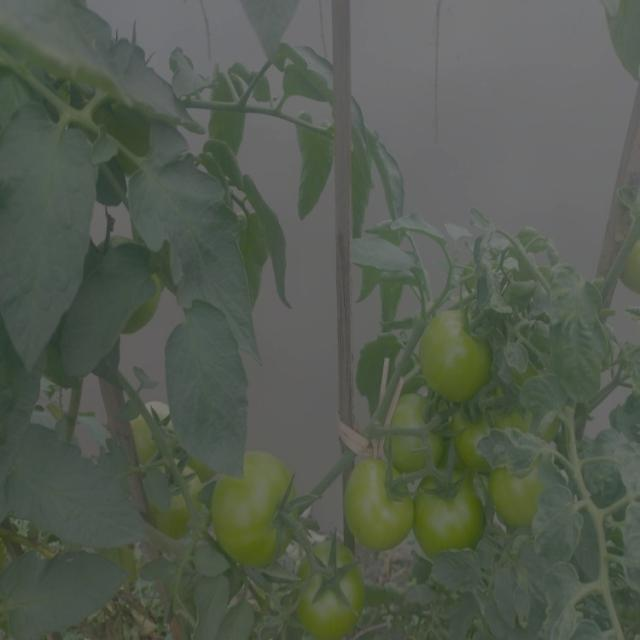tomato: (211, 445, 306, 567), (416, 298, 496, 404), (345, 452, 421, 548), (414, 471, 488, 565), (301, 548, 370, 636), (486, 459, 555, 536), (383, 393, 443, 470), (152, 456, 209, 533), (455, 412, 515, 472), (131, 399, 187, 454), (137, 270, 171, 333)
